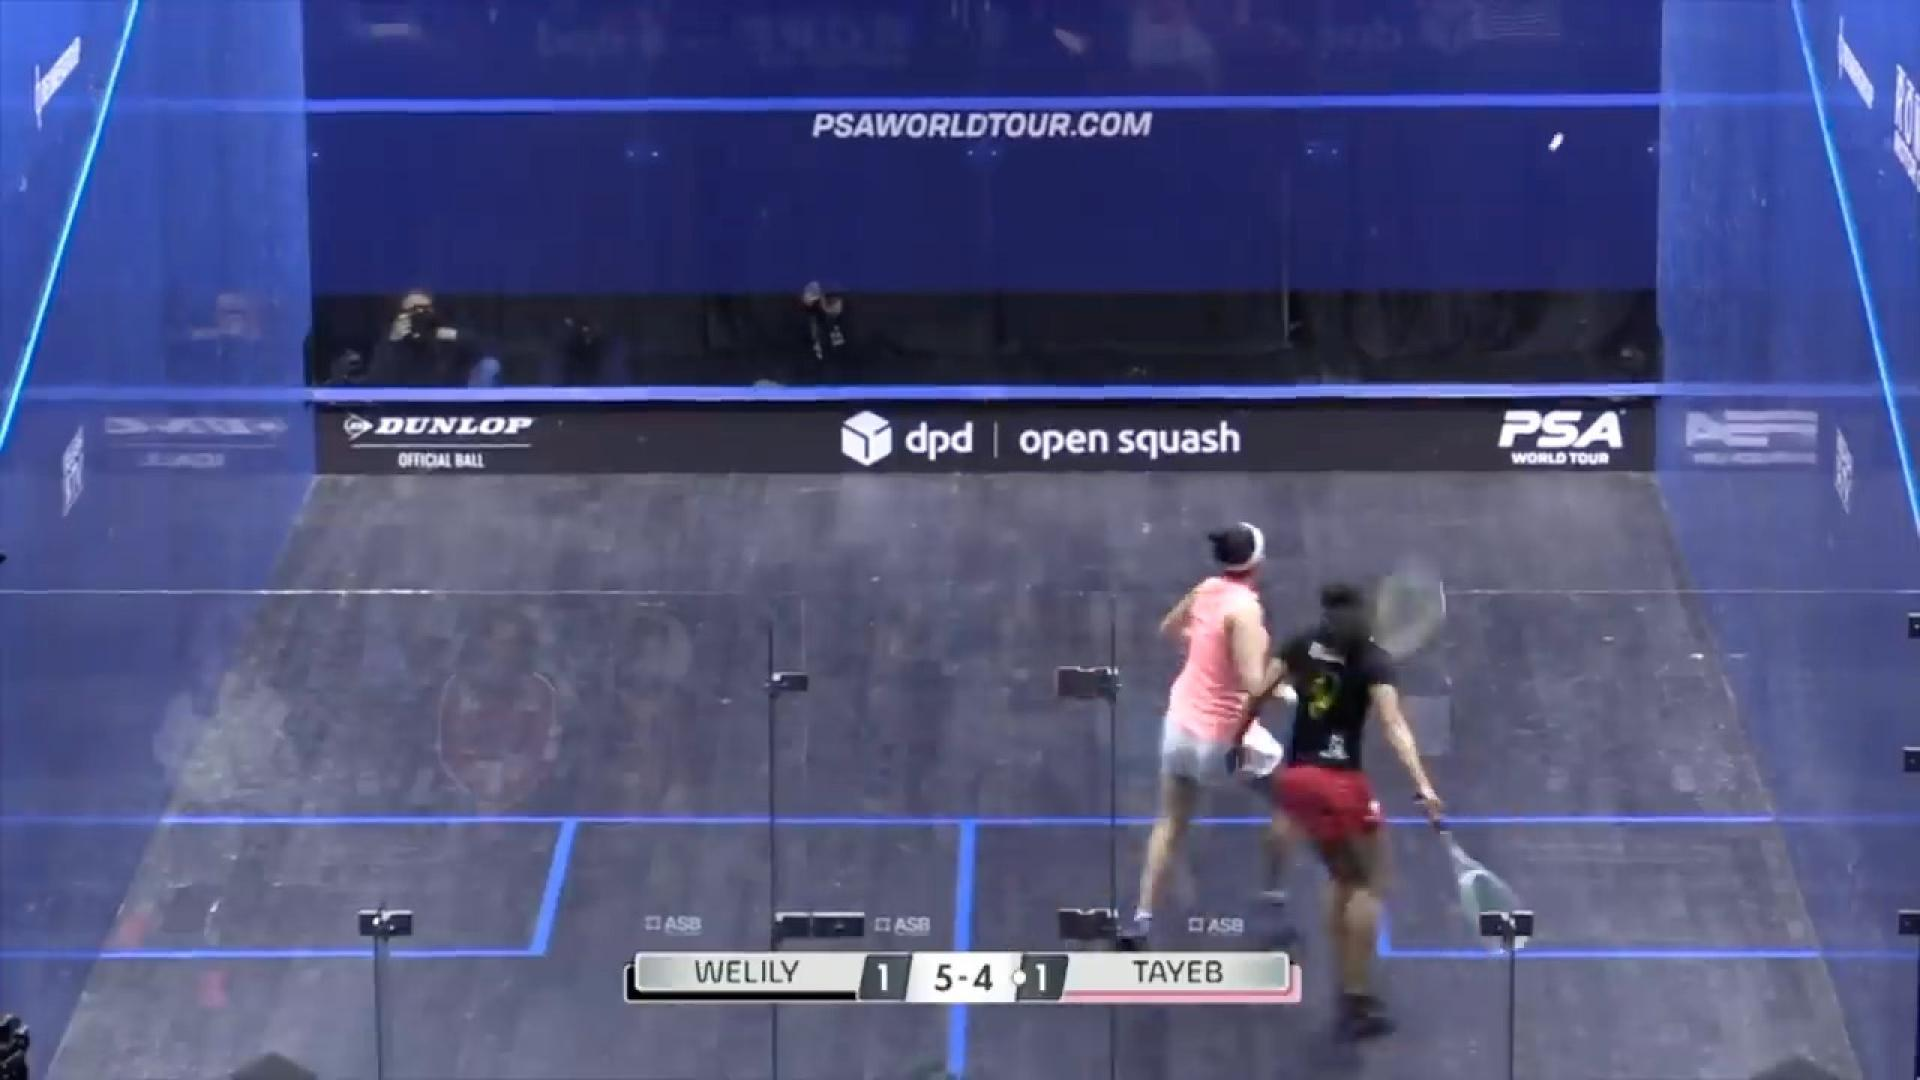Squash-Ball: (1524, 112, 1588, 170)
